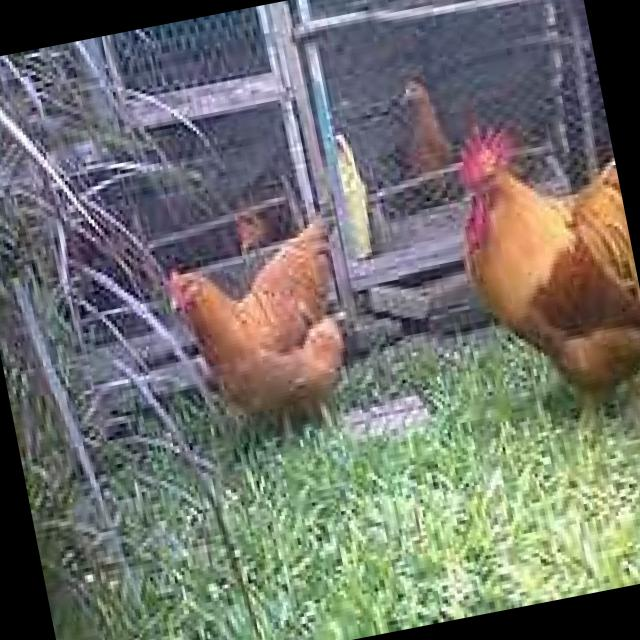animal: (435, 99, 640, 455), (153, 210, 370, 457), (377, 69, 462, 210), (222, 202, 282, 259)
